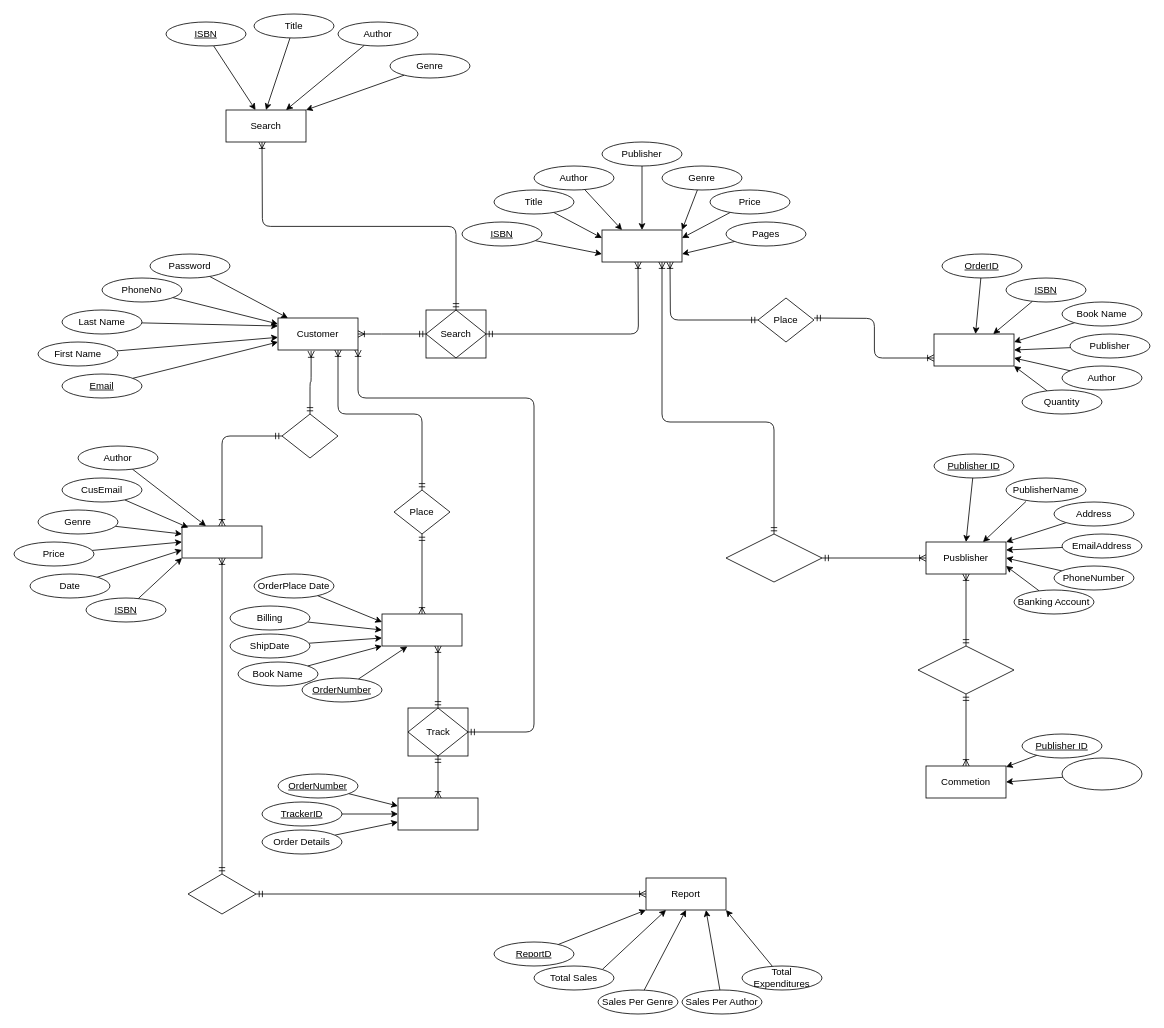
Some shapes in this 1164 by 1028 pixel diagram are drawn without their labels. The centre of each missing label's shape, as x and y in pixels:
Book: the point at 641,245
Create: the point at 221,893
Get: the point at 965,669
Order By System: the point at 973,349
OrderByCustomer: the point at 421,629
Percentage of Sales of Book: the point at 1101,773
Publish: the point at 773,557
Sale History: the point at 221,541
Track Order: the point at 437,813
View: the point at 309,435
